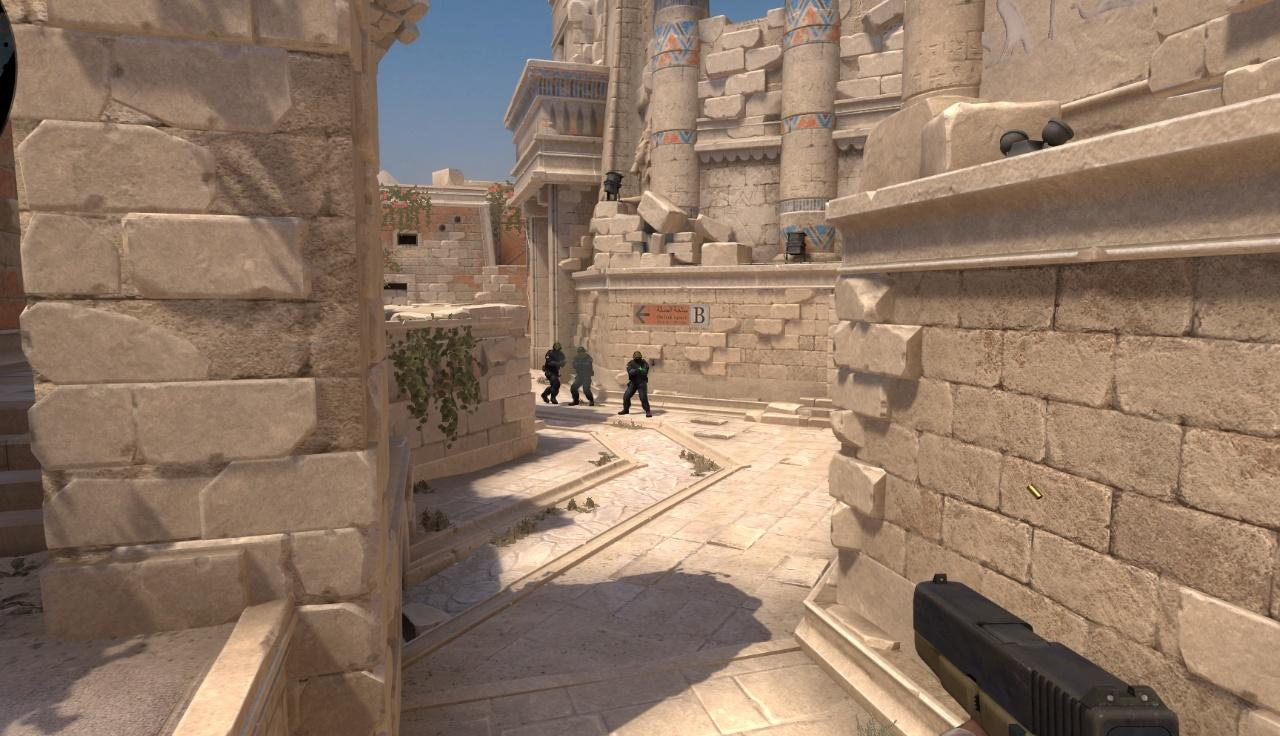ct: (619, 350, 653, 417), (568, 346, 594, 406), (541, 342, 565, 404)
cthead: (552, 341, 562, 354), (577, 346, 587, 359), (632, 351, 643, 362)
pistol: (910, 572, 1182, 732)
